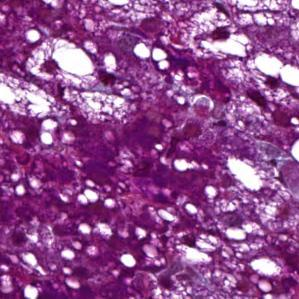ballooning: (168, 4, 255, 62), (25, 33, 97, 88)
